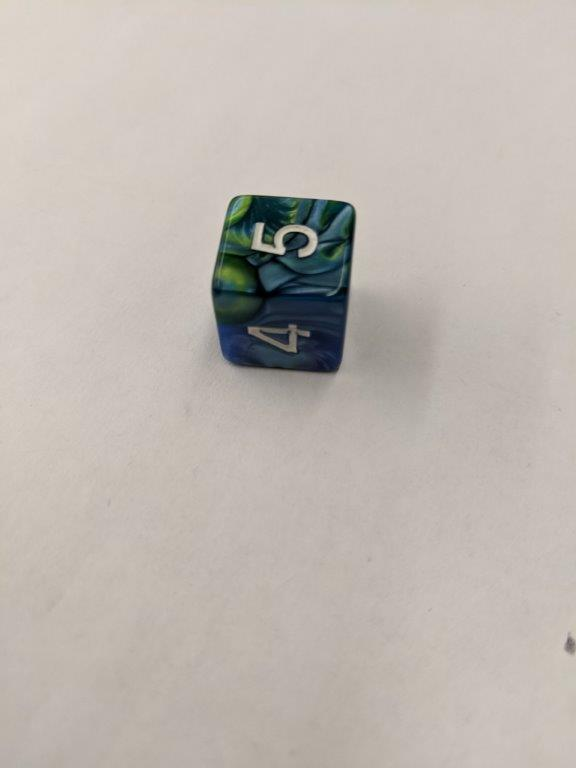d6-5: (209, 194, 358, 376)
